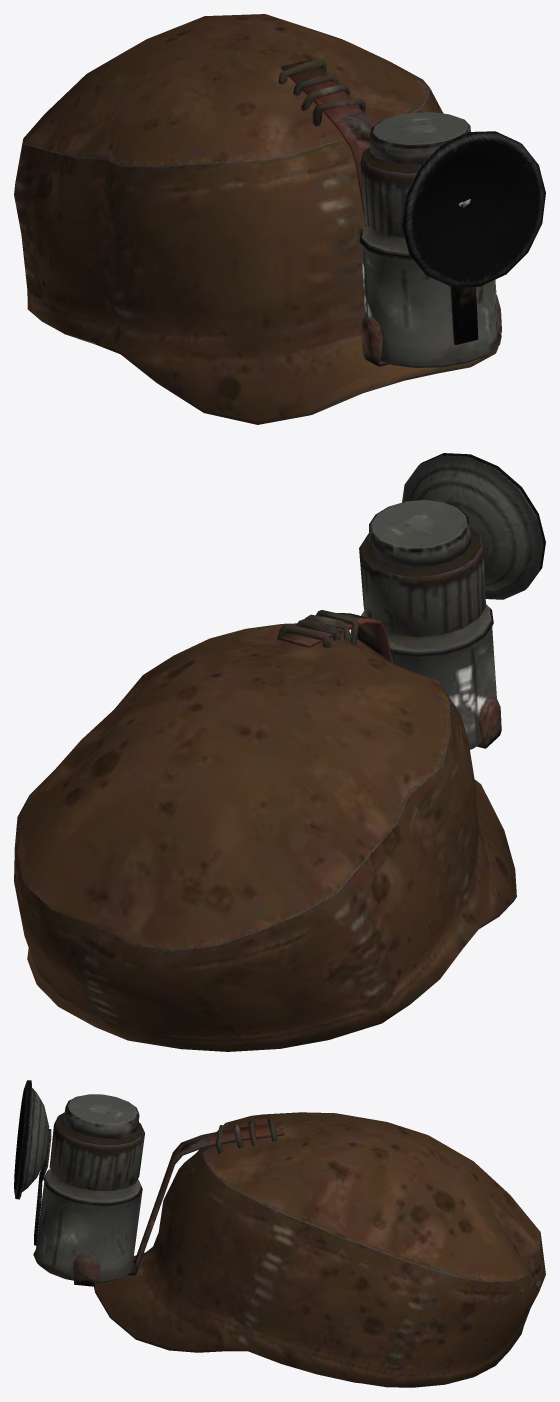
File: hatminer_worldmodel.glb
3 renders of one model, top to bottom at view 1: azimuth 30°, elevation 25°; view 2: azimuth 150°, elevation 25°; view 3: azimuth 270°, elevation 25°, orthographic. The views are drawn at different scales.
Visible parts, largest first — view 1: minerhat_LOD0; view 2: minerhat_LOD0; view 3: minerhat_LOD0.
Part boxes in pixels (x1,y1,x2,y2): minerhat_LOD0: (14,14,545,424); minerhat_LOD0: (14,453,545,1051); minerhat_LOD0: (14,1080,545,1387).
Size of the model in its own units: 0.1773 by 0.1516 by 0.2929.
1 material, 1 textured.
